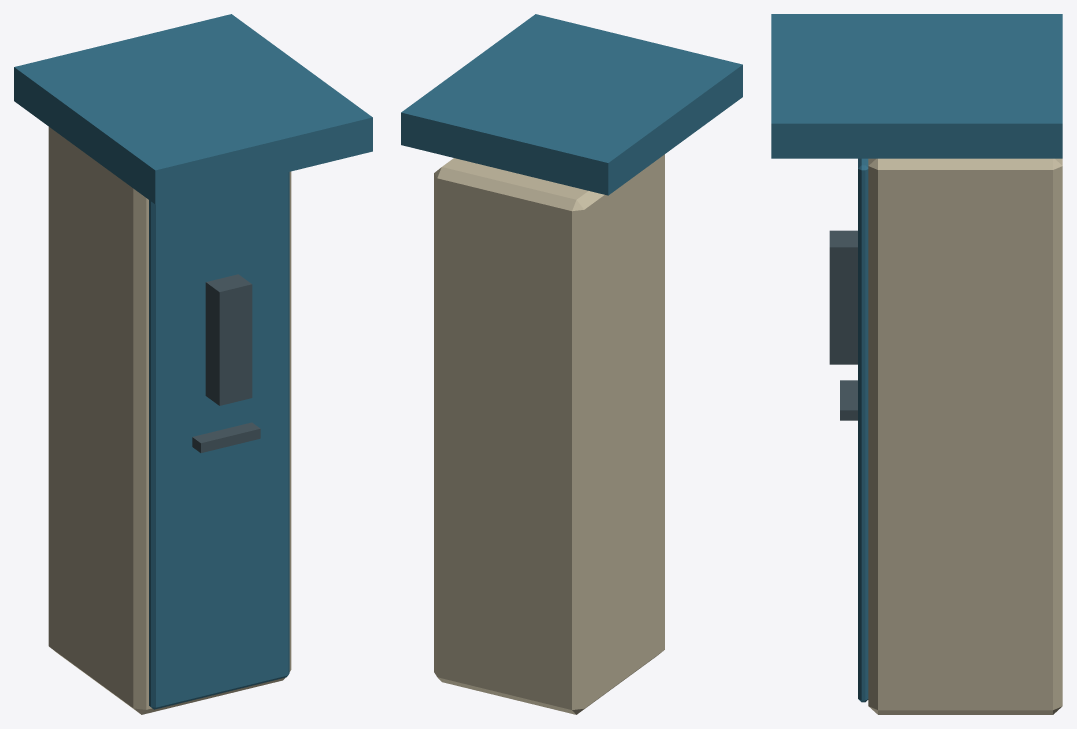
Rendered from payphone.glb.
3 views of the same model, side by side, from view 1: azimuth 30°, elevation 25°; view 2: azimuth 150°, elevation 25°; view 3: azimuth 270°, elevation 25° (orthographic). The views are drawn at different scales.
Visible parts, largest first — view 1: payphone; view 2: payphone; view 3: payphone.
Part boxes in pixels (bbox=[...]): payphone: bbox=[14, 14, 372, 714]; payphone: bbox=[401, 14, 742, 714]; payphone: bbox=[771, 14, 1062, 714].
Size of the model in its own units: 0.8 by 2.08 by 0.9.
